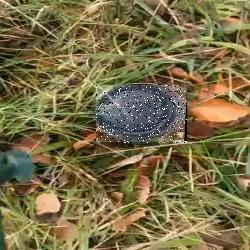plastic: (96, 86, 187, 144)
